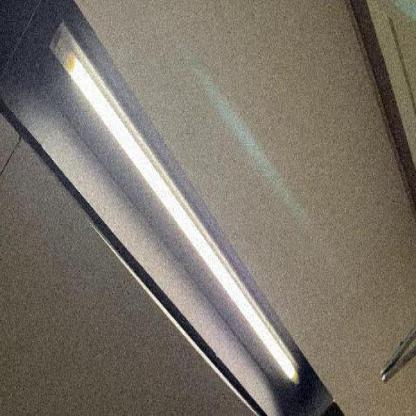light_on: (45, 15, 302, 392)
